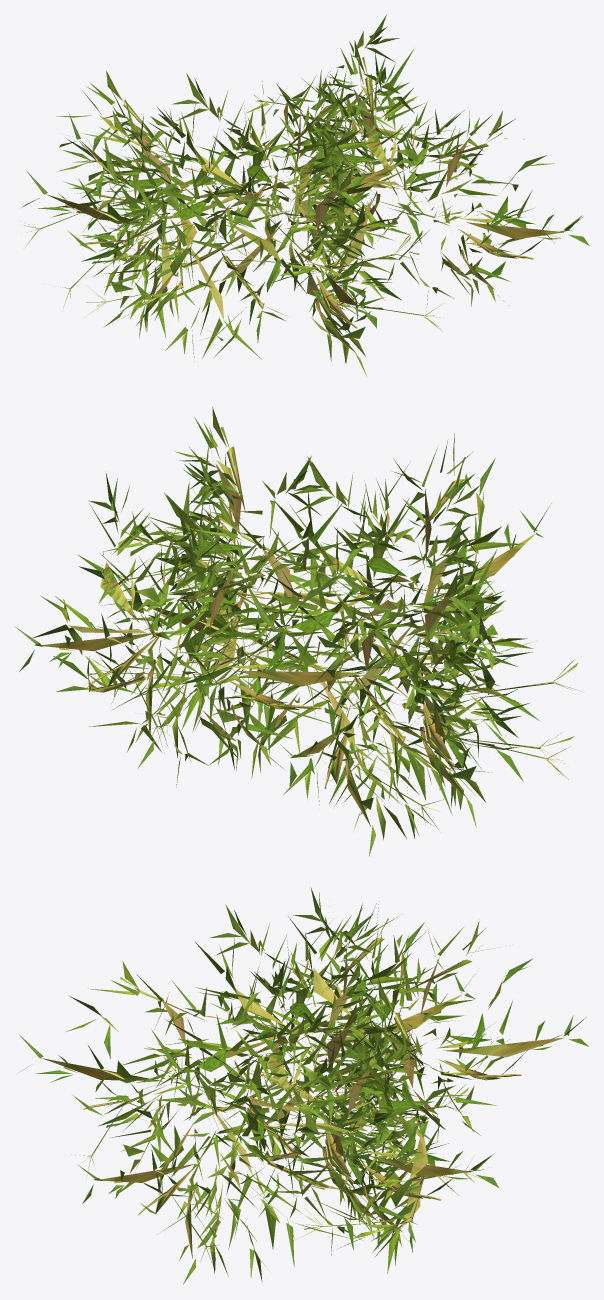
The model's file is durba_grass_3d.glb.
The picture shows the model from 3 angles, top to bottom: view 1: azimuth 30°, elevation 25°; view 2: azimuth 150°, elevation 25°; view 3: azimuth 270°, elevation 25°; orthographic projection. The views are drawn at different scales.
Visible parts, largest first — view 1: Durba_Grass_Patch_3D; view 2: Durba_Grass_Patch_3D; view 3: Durba_Grass_Patch_3D.
Part boxes in pixels (x1,y1,x2,y2): Durba_Grass_Patch_3D: (21,15,589,376); Durba_Grass_Patch_3D: (15,407,578,856); Durba_Grass_Patch_3D: (19,887,588,1284).
Bounding box in the file's own units: 1.52 × 0.8424 × 1.53.
1 material, 1 textured.
